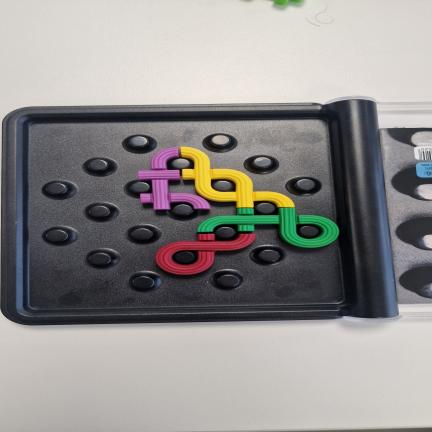A_Yellow: (180, 147, 294, 208)
D_Green: (197, 208, 339, 248)
H_Purple: (138, 148, 210, 210)
J_DarkRed: (156, 234, 256, 275)
board: (1, 99, 398, 324)
hinge: (336, 107, 394, 314)
pin: (296, 225, 321, 238), (45, 229, 68, 242), (45, 182, 67, 195), (88, 205, 110, 218), (89, 252, 111, 265), (132, 276, 154, 289), (174, 251, 195, 264), (259, 249, 280, 262), (218, 274, 239, 287), (131, 228, 153, 240), (212, 180, 235, 191), (87, 159, 108, 171), (252, 157, 273, 169), (295, 179, 316, 191), (172, 204, 193, 216), (130, 182, 150, 194), (255, 203, 276, 214), (215, 227, 236, 238), (129, 136, 148, 148), (211, 135, 230, 146), (171, 158, 190, 169)
